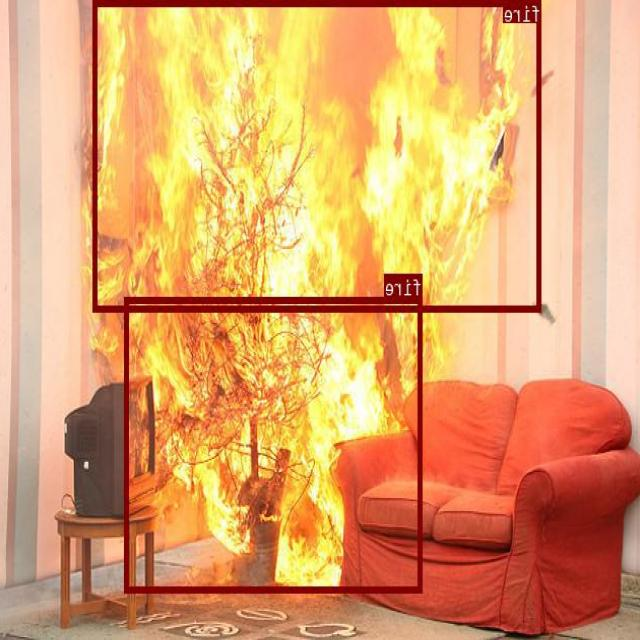fire: (94, 0, 542, 310), (125, 296, 422, 592)
